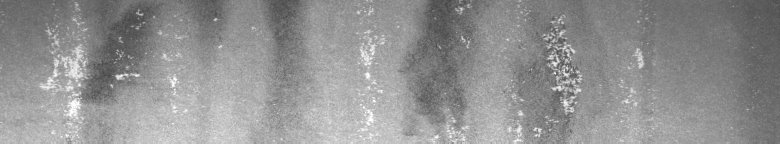hc: (45, 4, 222, 108)
